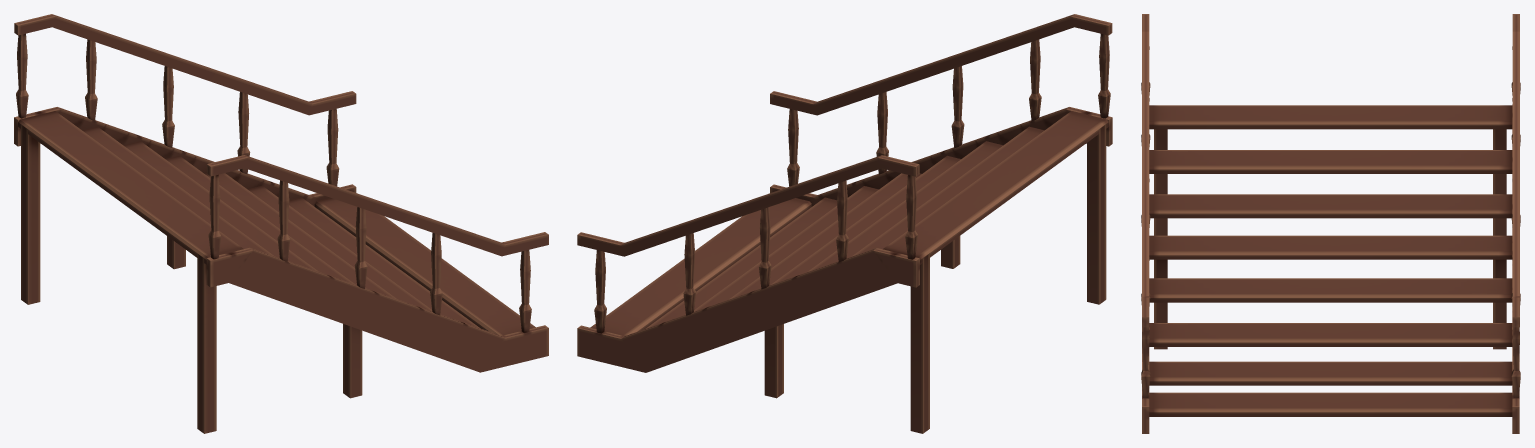
File: TileSet11_Stairs.fbx
The picture shows the model from 3 angles, left to right: view 1: azimuth 30°, elevation 25°; view 2: azimuth 150°, elevation 25°; view 3: azimuth 270°, elevation 25°; orthographic projection. The views are drawn at different scales.
Visible parts, largest first — view 1: polySurface8; view 2: polySurface8; view 3: polySurface8.
Boxes of the visible parts, box(x1,y1,x2,y2) form: polySurface8: box(14, 14, 548, 433); polySurface8: box(577, 14, 1112, 433); polySurface8: box(1141, 14, 1520, 433).
Bounding box in the file's own units: 3.98 × 3.05 × 4.02.
1 material, 1 textured.
